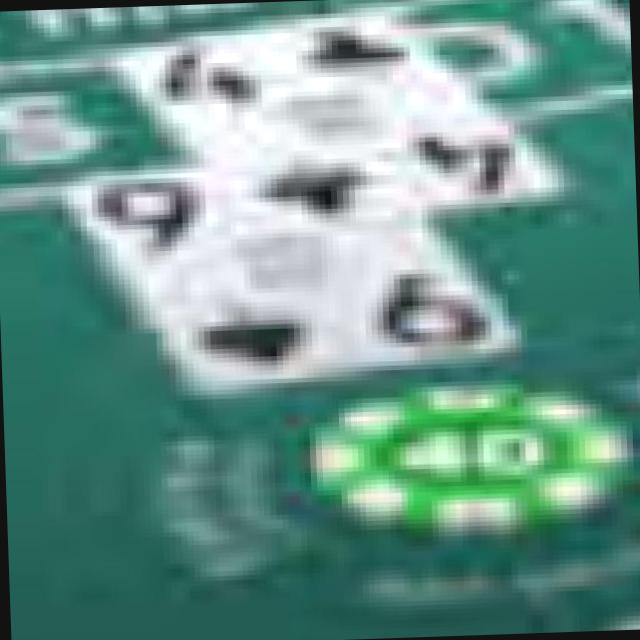Card-4: (114, 12, 566, 237)
Card-9: (71, 174, 521, 395)
